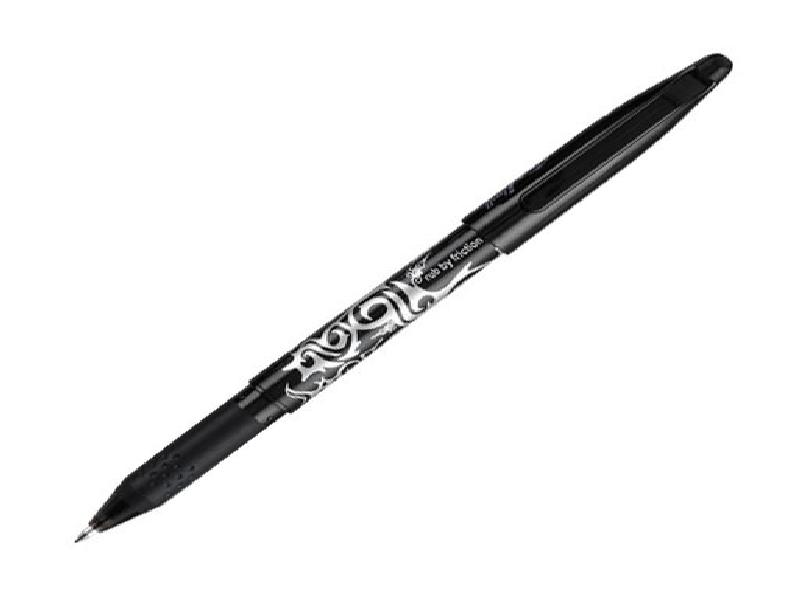pen: (75, 47, 736, 548)
